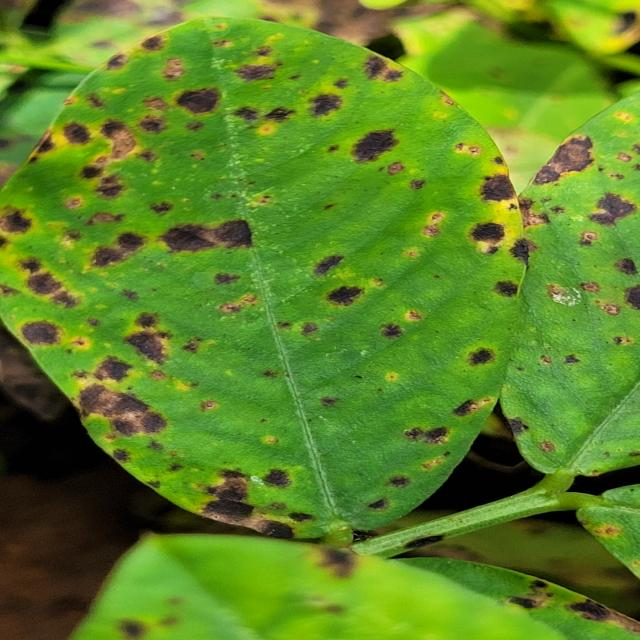Ground nut_tikka leaf spot: (0, 19, 515, 532), (514, 97, 640, 481)
